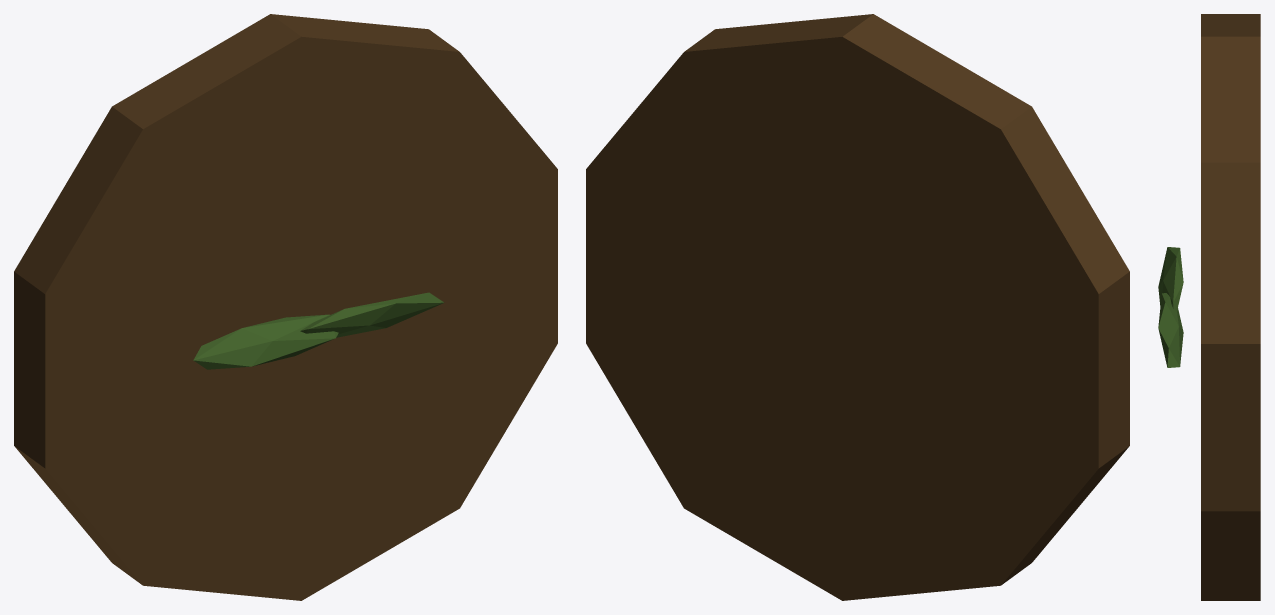
Rendered from 1_seedling.obj.
3 views of the same model, side by side, from view 1: azimuth 30°, elevation 25°; view 2: azimuth 150°, elevation 25°; view 3: azimuth 270°, elevation 25° (orthographic). The views are drawn at different scales.
Visible parts, largest first — view 1: poppy_1_seedling; view 2: poppy_1_seedling; view 3: poppy_1_seedling.
Part boxes in pixels (x1,y1,x2,y2): poppy_1_seedling: (14, 14, 557, 600); poppy_1_seedling: (586, 14, 1129, 600); poppy_1_seedling: (1158, 14, 1260, 600).
Bounding box in the file's own units: 0.1902 × 0.2 × 0.0342.
